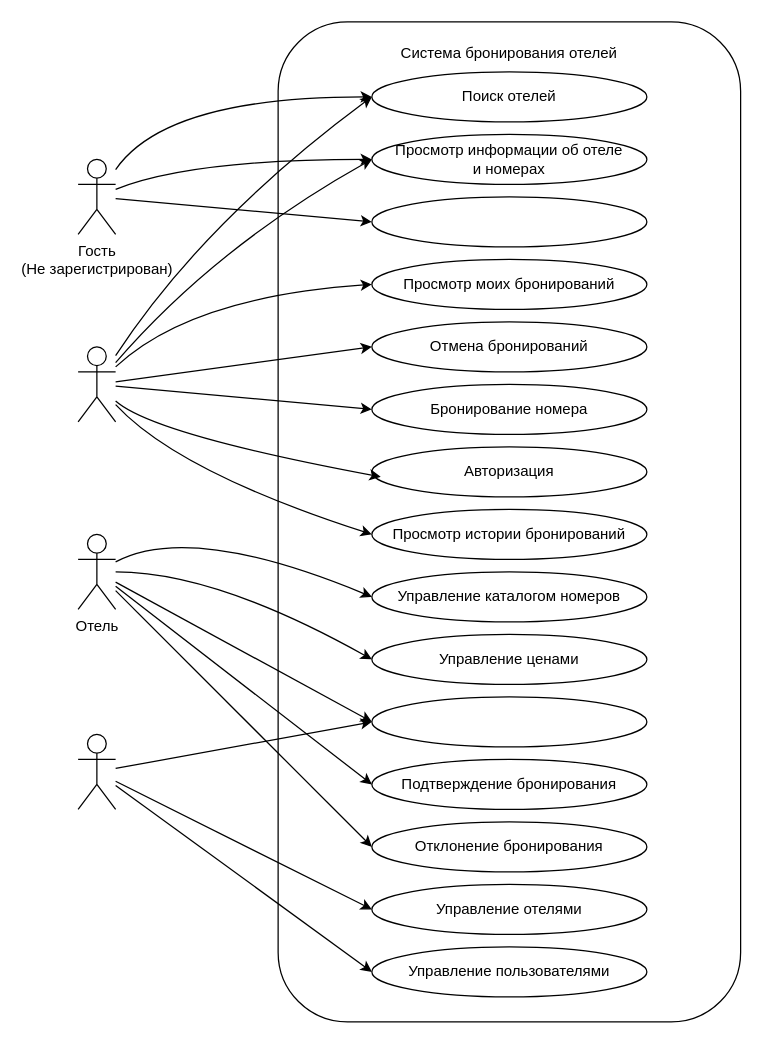
This 763x1044 diagram has some shape labels left out. The centre of each missing label's shape, as x and y in pixels:
Пользователь: pixel 96 384
Просмотр бронирований в отеле: pixel 509 721
Регистрация: pixel 509 221
Сервис по б ронированию: pixel 96 771
